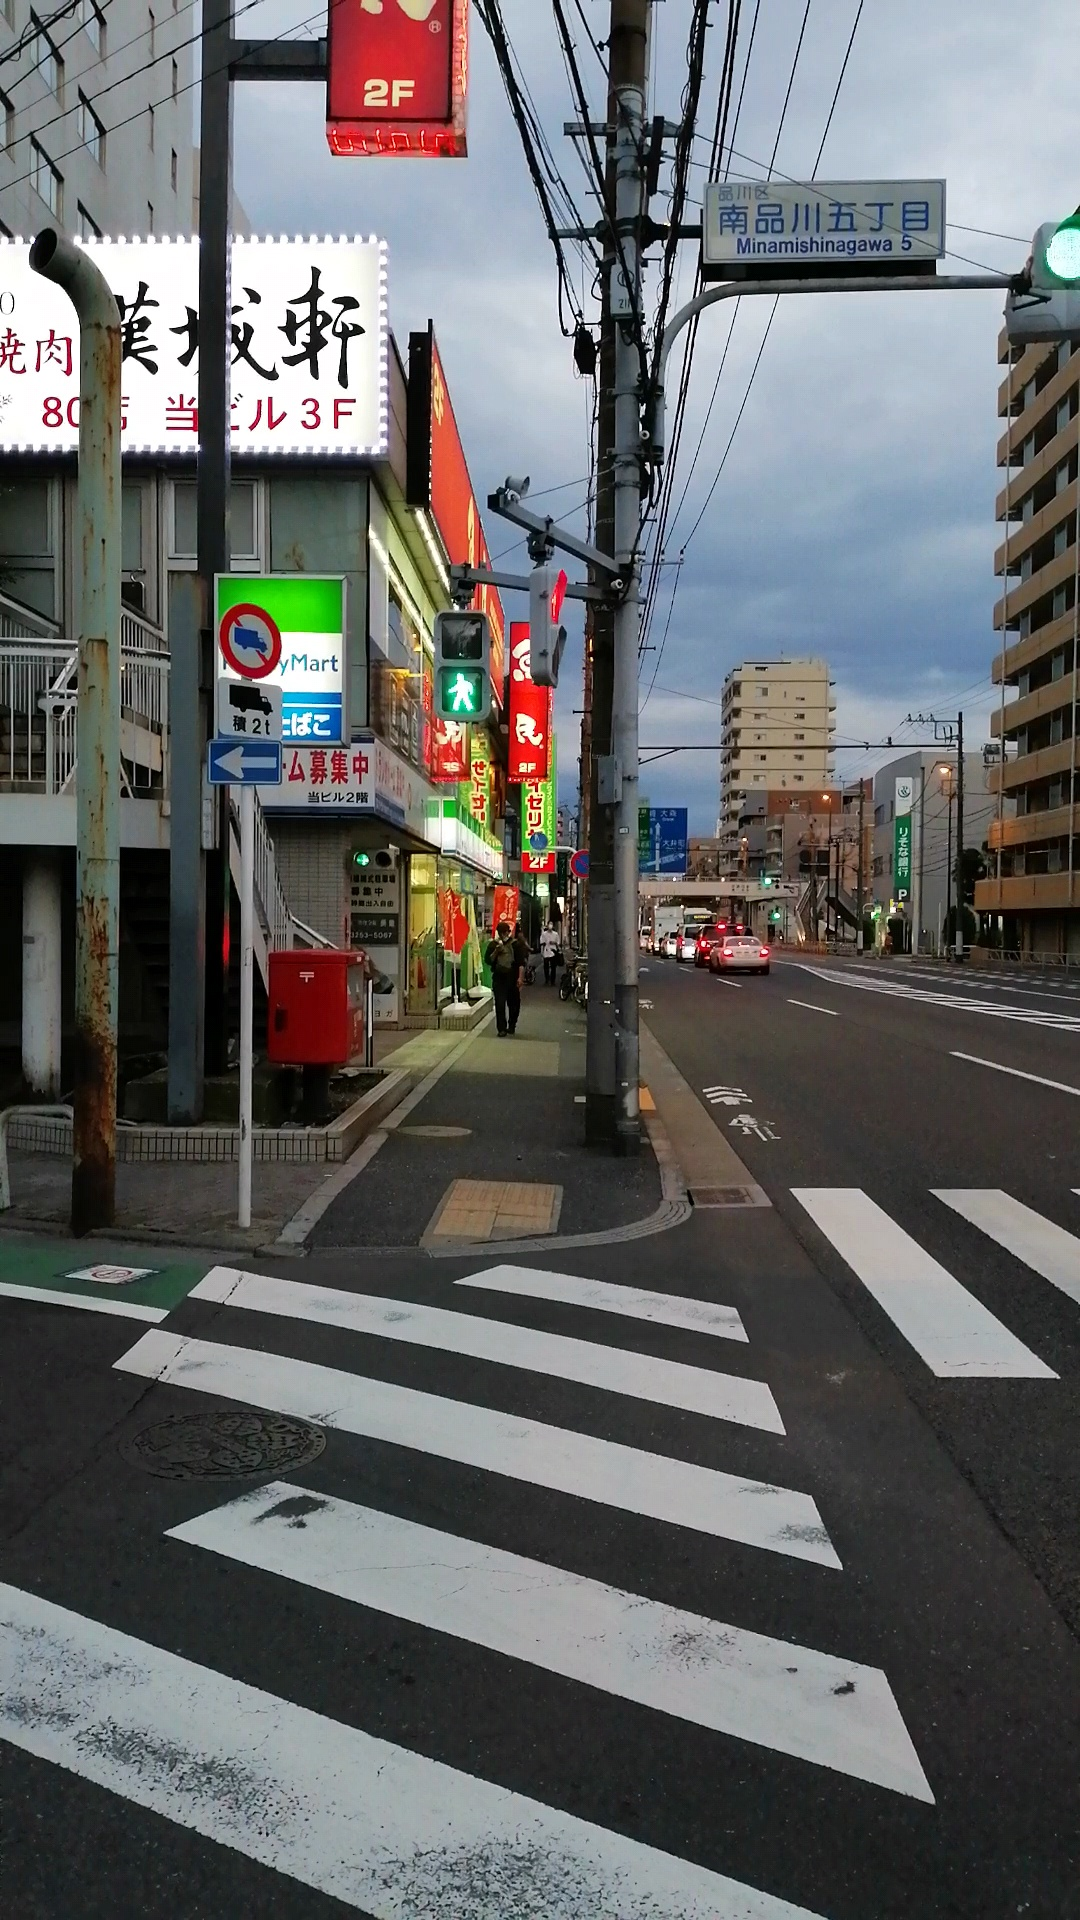green: (434, 611, 491, 723)
